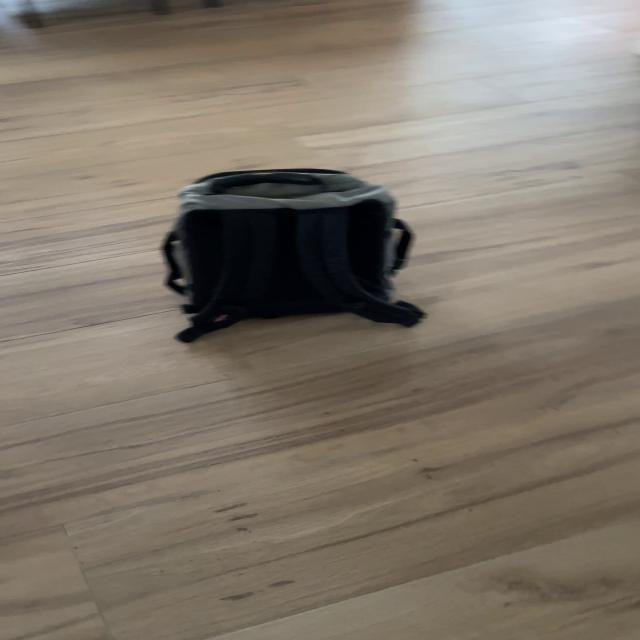backpack: (144, 160, 430, 343)
